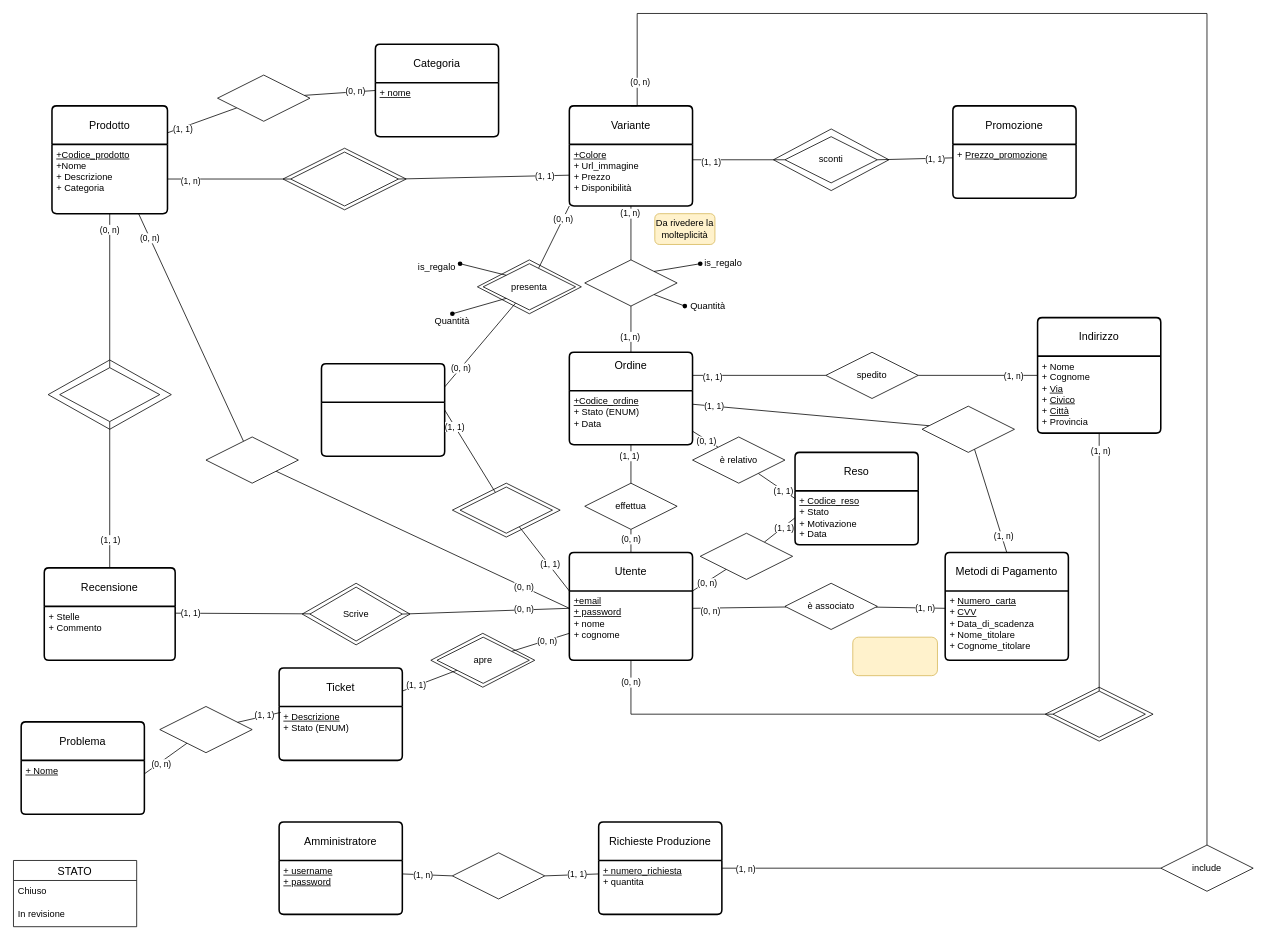
Some shapes in this 1267 by 942 pixel diagram are drawn without their labels. The centre of each missing label's shape, as x and y in pixels:
appartiene: point 263,97
caratterizza: point 205,729
Carrello: point 382,410
Compone: point 630,282
ha: point 1098,713
ordina: point 498,875
possiede: point 505,509
Preferiti: point 251,459
richiede: point 746,555
Una carta di credito può essere associata a più di 1 persona: point 894,656
usa: point 967,428
Valuta: point 109,394
è diversificato in: point 344,178
